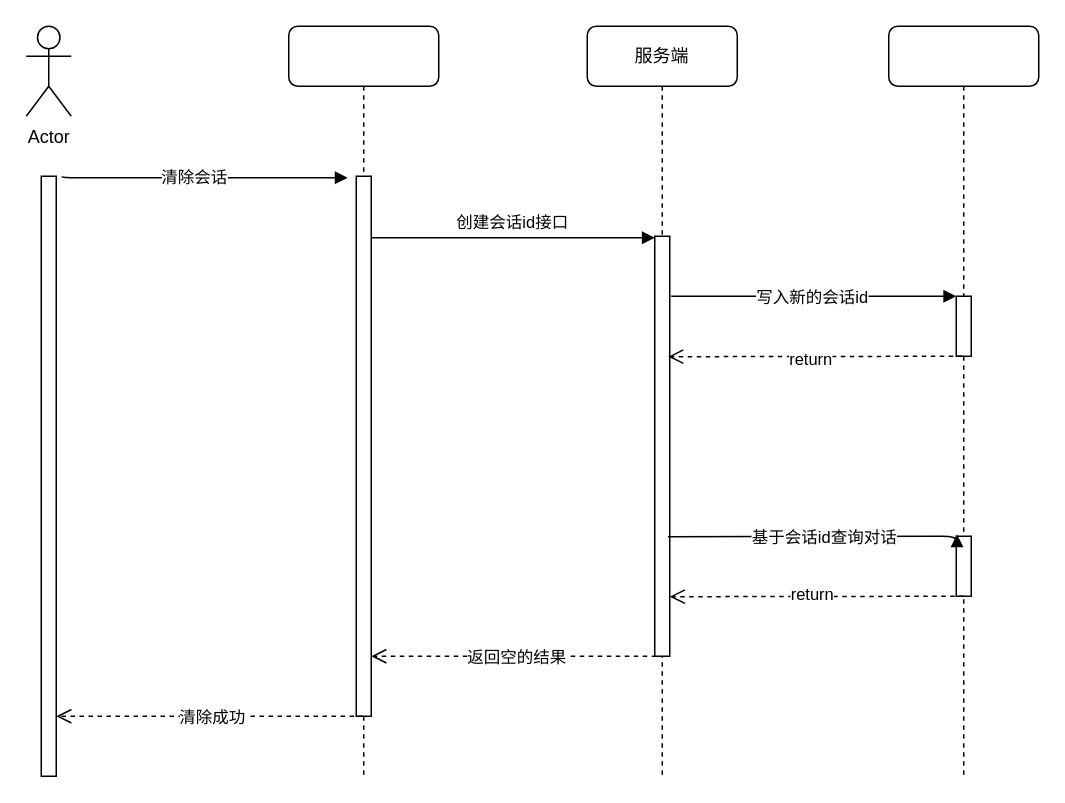
This 1065x803 diagram has some shape labels left out. Here are the shapes that lost their labels. From the top down, the box of each, then its label:
(287, 25, 439, 776): 前端
(887, 25, 1039, 776): 数据库
